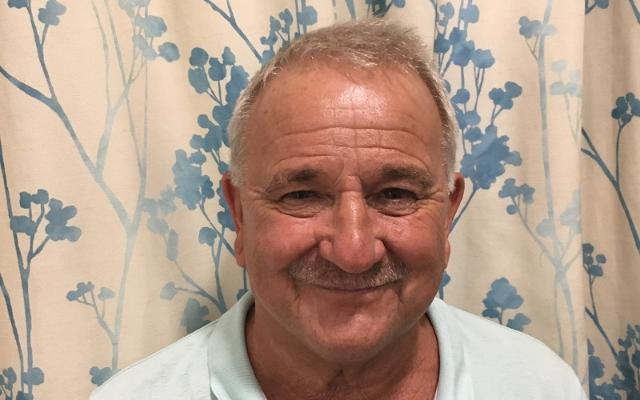crows_feet: (418, 186, 442, 212), (254, 189, 280, 213)
forehead: (369, 138, 417, 158), (378, 122, 420, 142), (338, 118, 372, 142), (334, 138, 374, 158), (287, 122, 331, 138), (294, 146, 334, 162)
frown_line: (334, 179, 362, 199)
sad_smile: (388, 281, 408, 309), (286, 274, 304, 302)
